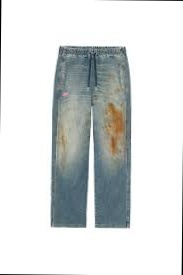earth: (106, 103, 125, 155)
